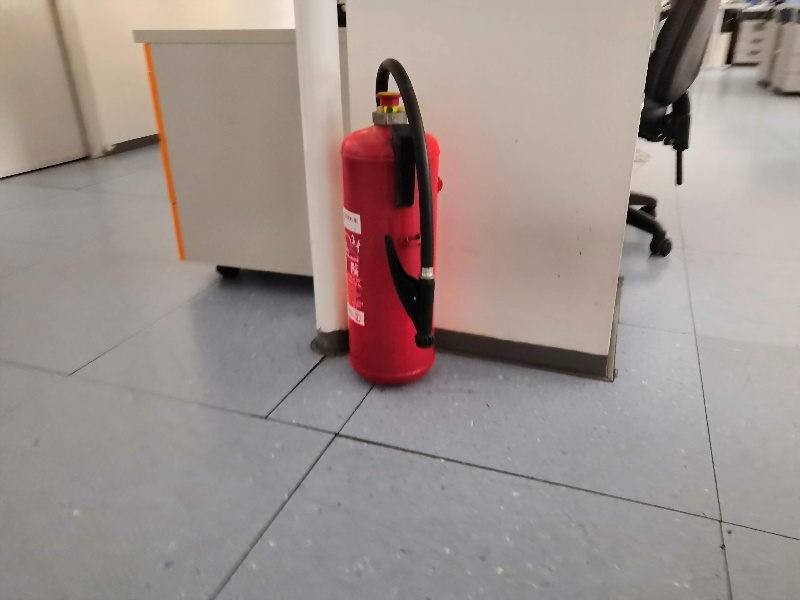vataparat: (339, 57, 438, 384)
